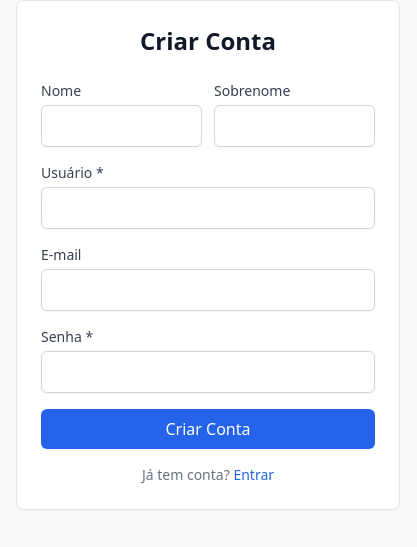
Test: RegisterPage › exibe erro de campo quando API retorna validação
In the field labelled "Usuário *": {"x": 208, "y": 208} [41,187,375,229], type "existente"
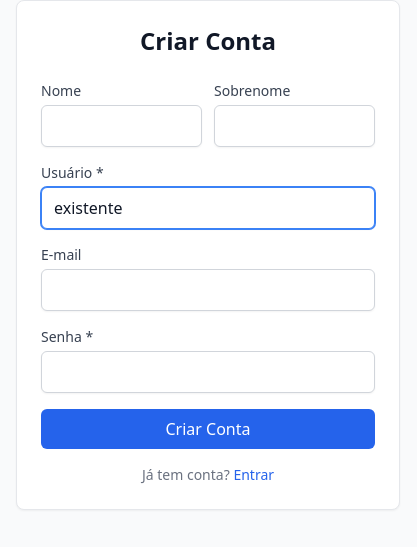
In the password field labelled "Senha *": {"x": 208, "y": 372} [41,351,375,393], type "senha12345"
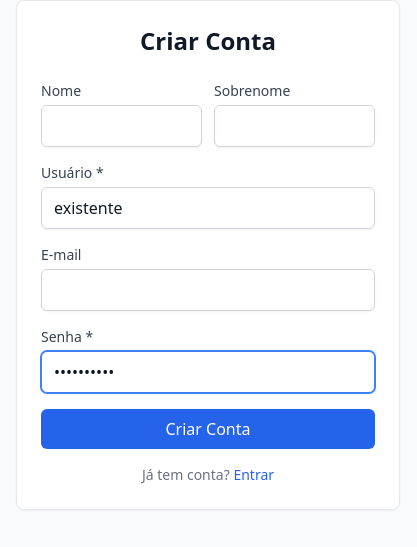
Click the button "Criar Conta": {"x": 208, "y": 429} [41,409,375,449]
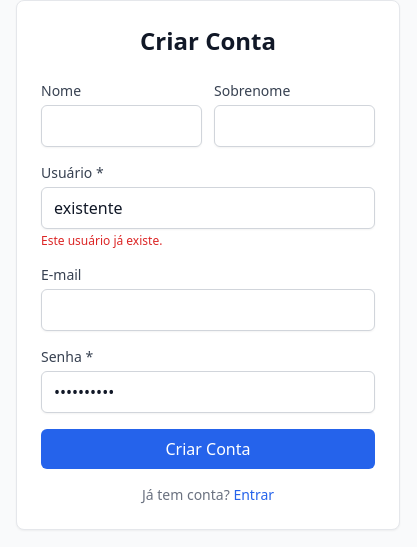
Now the text "Este usuário já existe." is shown, box [41,232,162,249]
